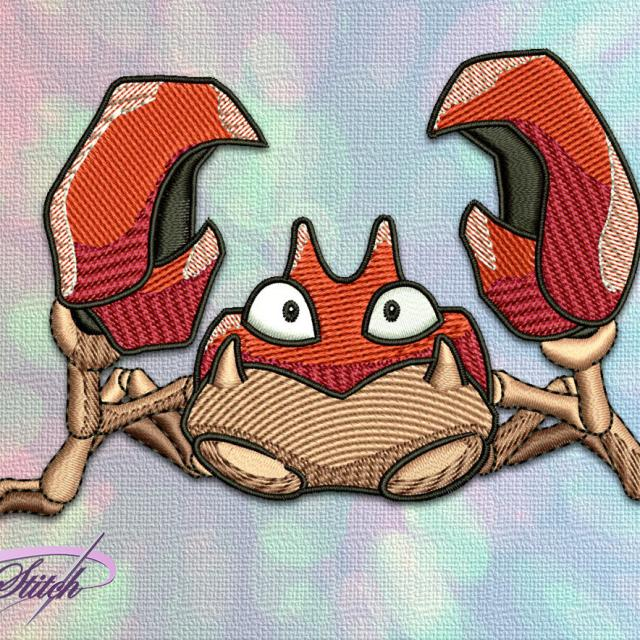Krabby: (55, 69, 640, 506)
